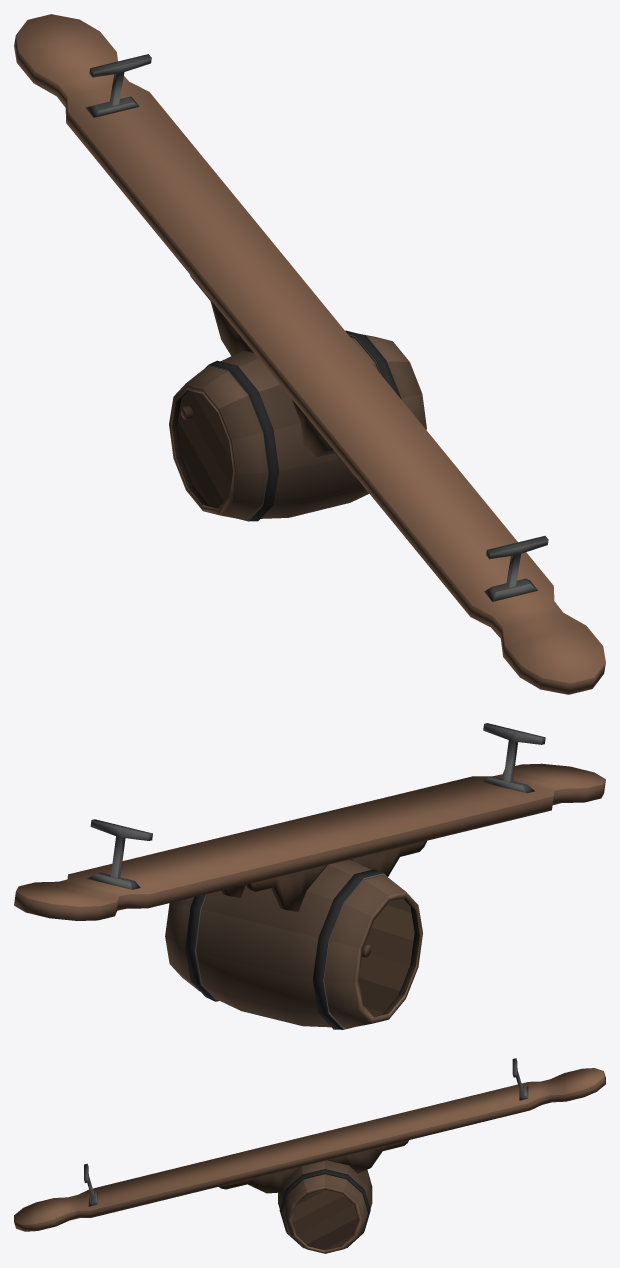
3 views of the same model, one above another, from view 1: azimuth 30°, elevation 25°; view 2: azimuth 150°, elevation 25°; view 3: azimuth 270°, elevation 25° (orthographic). The views are drawn at different scales.
Visible parts, largest first — view 1: Seesaw; view 2: Seesaw; view 3: Seesaw.
Boxes of the visible parts, x1,y1,x2,y2 form: Seesaw: (14, 14, 605, 694); Seesaw: (14, 723, 605, 1029); Seesaw: (14, 1058, 605, 1253).
Size of the model in its own units: 0.1009 by 0.1598 by 0.5.
